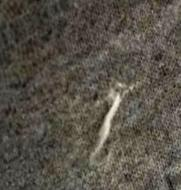snag: (86, 82, 128, 165)
